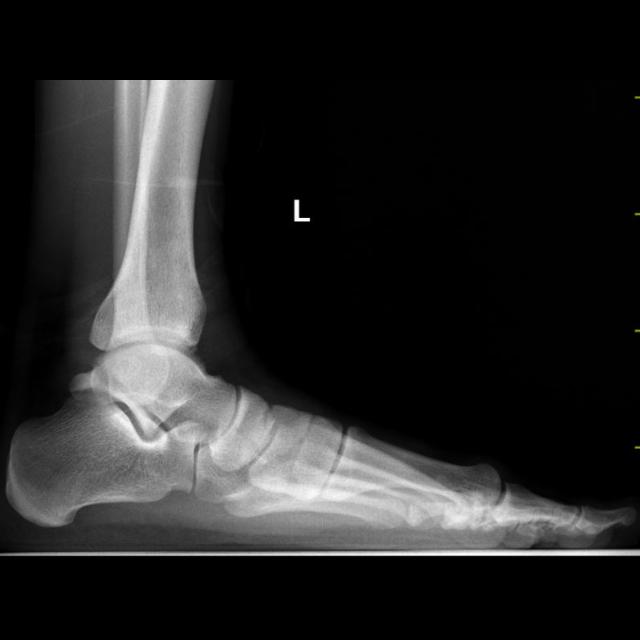a: (5, 397, 201, 529)
b: (209, 384, 270, 472)
c: (321, 425, 503, 511)
